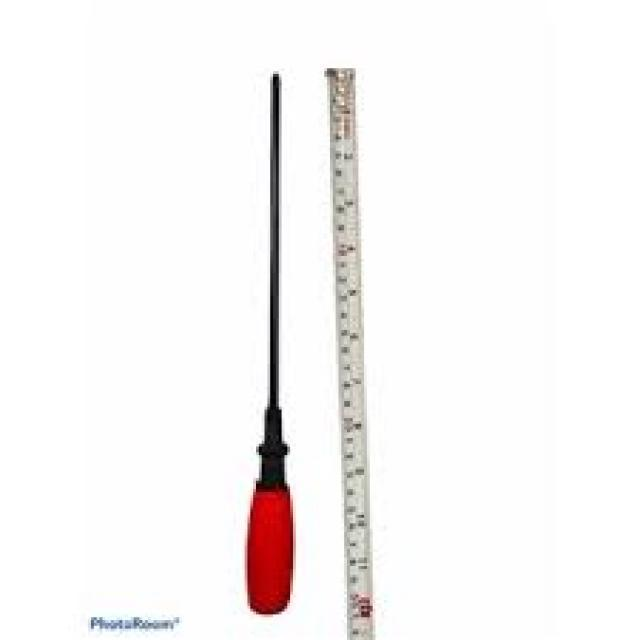screwdriver: (240, 61, 298, 622)
